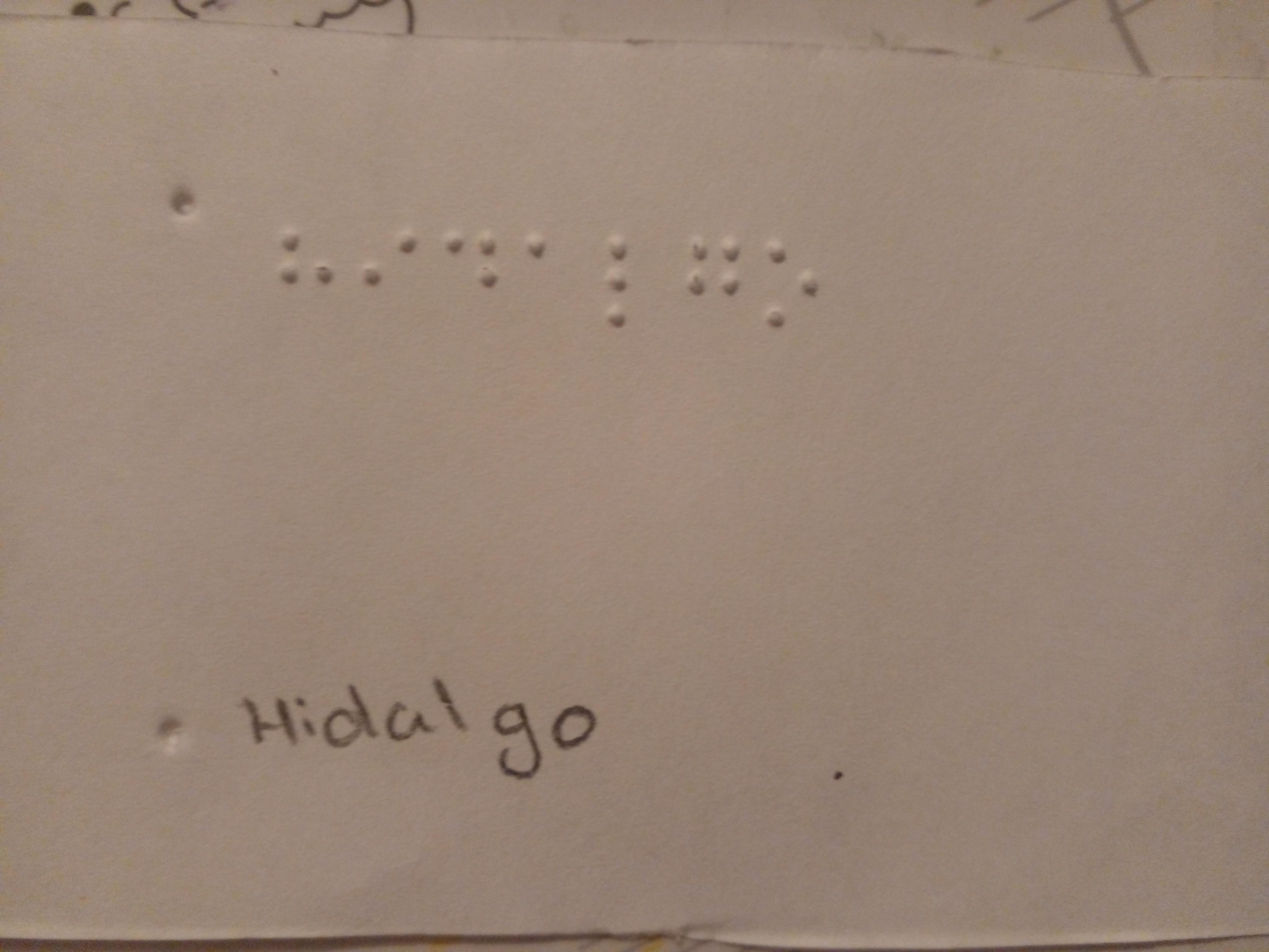a: (516, 225, 556, 273)
d: (441, 220, 508, 296)
g: (675, 217, 747, 321)
h: (259, 212, 339, 302)
i: (353, 218, 424, 315)
l: (587, 225, 638, 346)
o: (761, 239, 818, 335)
